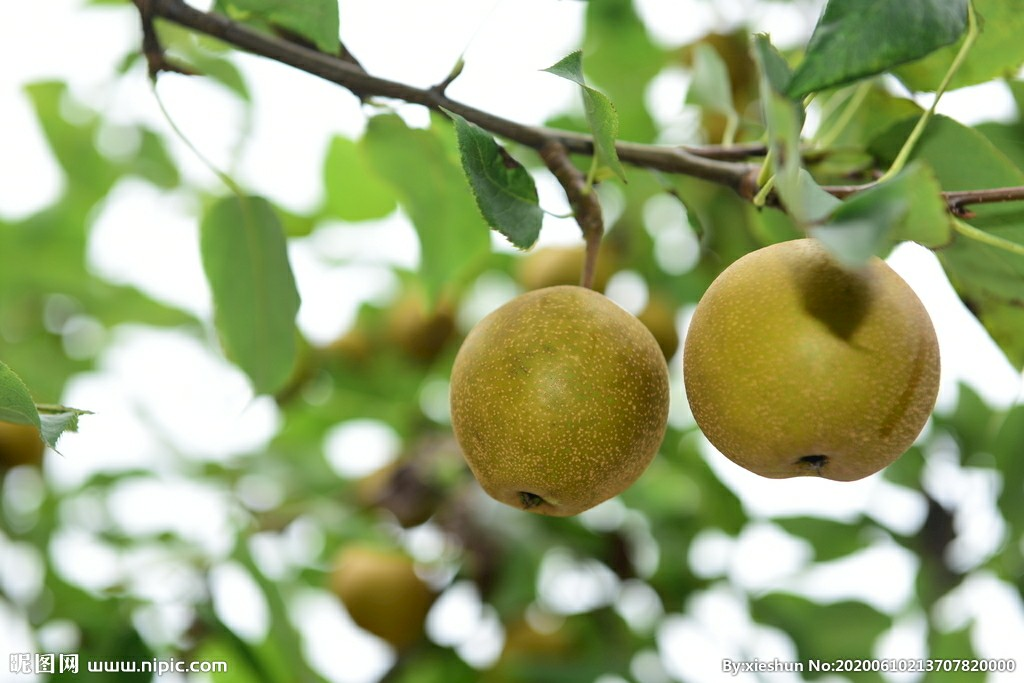pear: (683, 239, 941, 482), (449, 284, 672, 515)
